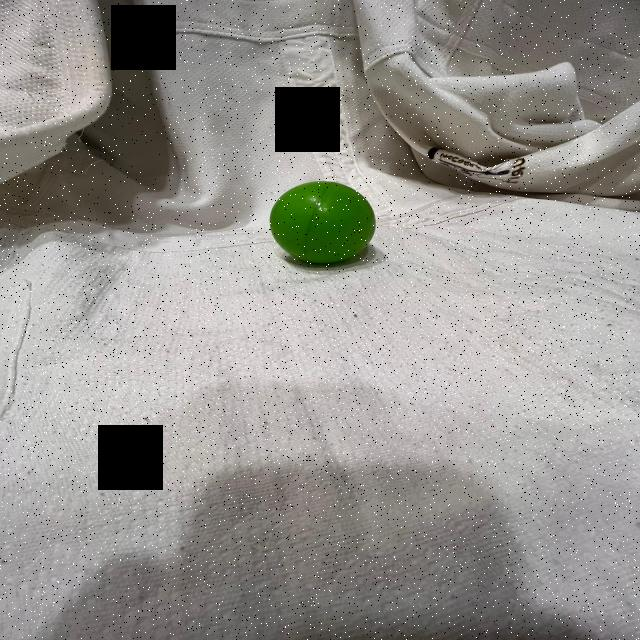ball: (266, 179, 380, 265)
